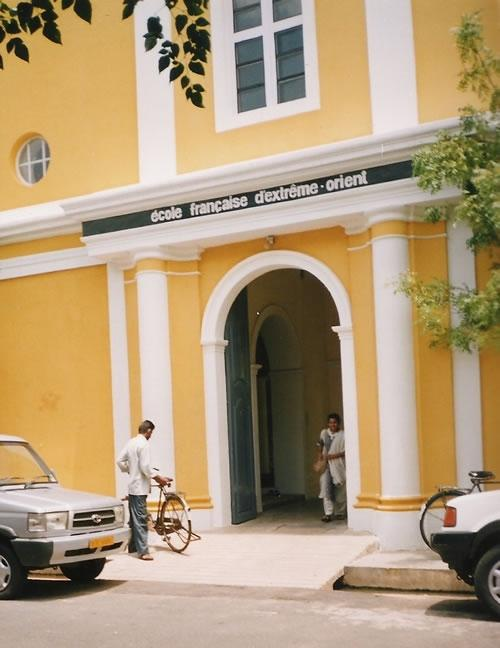non-vehicle: (418, 469, 499, 552), (122, 467, 200, 553)
